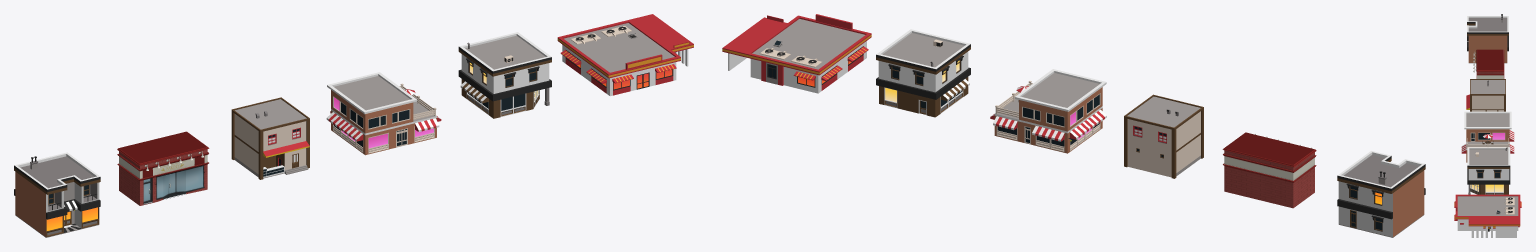
File: small-buildings.glb
3 renders of one model, left to right at view 1: azimuth 30°, elevation 25°; view 2: azimuth 150°, elevation 25°; view 3: azimuth 270°, elevation 25°, orthographic. The views are drawn at different scales.
Visible parts, largest first — view 1: building-burger-joint, building-restaurant-1, building-corner-store, build-shop-1, building-restaurant-2, building-cannabis; view 2: building-burger-joint, building-restaurant-1, building-corner-store, build-shop-1, building-cannabis, building-restaurant-2; view 3: building-burger-joint, building-corner-store, building-restaurant-1, build-shop-1, building-restaurant-2, building-cannabis.
Boxes of the visible parts, x1,y1,x2,y2 form: building-burger-joint: [557, 14, 693, 96]; building-restaurant-1: [326, 72, 441, 155]; building-corner-store: [458, 32, 551, 118]; build-shop-1: [14, 152, 100, 237]; building-restaurant-2: [231, 97, 309, 179]; building-cannabis: [117, 131, 209, 205]; building-burger-joint: [722, 14, 871, 93]; building-restaurant-1: [990, 69, 1106, 153]; building-corner-store: [876, 29, 970, 117]; build-shop-1: [1337, 151, 1425, 237]; building-cannabis: [1222, 132, 1316, 208]; building-restaurant-2: [1124, 94, 1203, 178]; building-burger-joint: [1454, 194, 1521, 237]; building-corner-store: [1467, 147, 1510, 194]; building-restaurant-1: [1461, 111, 1514, 162]; build-shop-1: [1467, 14, 1508, 63]; building-restaurant-2: [1466, 79, 1505, 111]; building-cannabis: [1473, 49, 1504, 78].
Bounding box in the file's own units: 109 × 10.08 × 15.6.
Materials: 2 (2 with a texture image).
